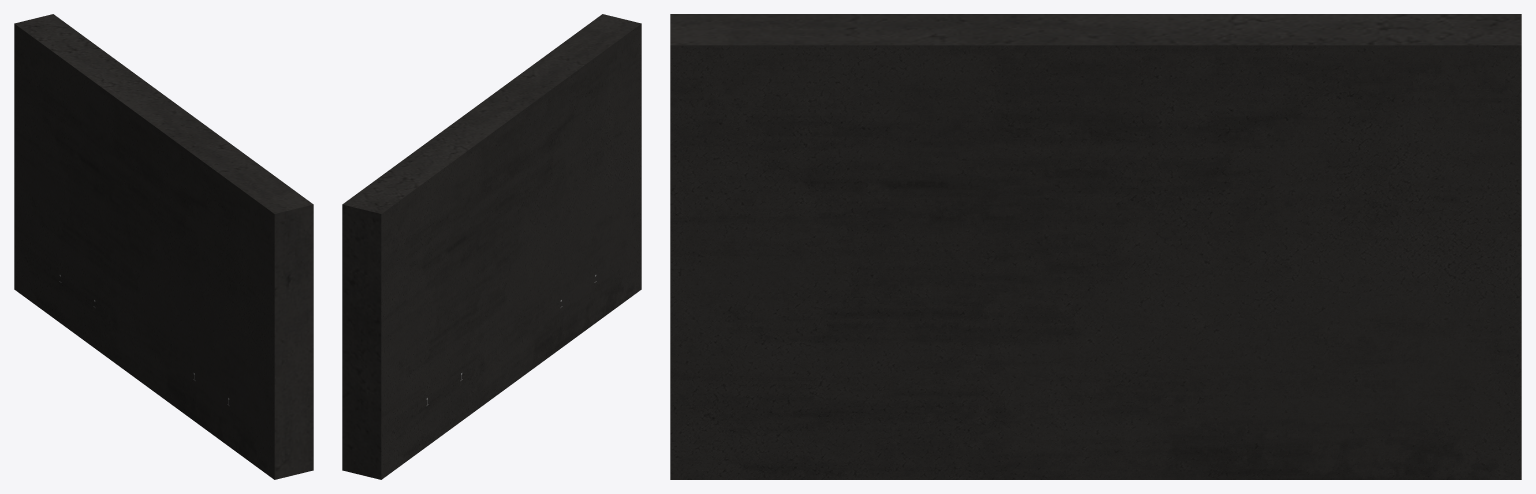
File: tunnel 2way delimeter.fbx
3 views of the same model, side by side, from view 1: azimuth 30°, elevation 25°; view 2: azimuth 150°, elevation 25°; view 3: azimuth 270°, elevation 25° (orthographic). The views are drawn at different scales.
Parts seen in each view (by area): view 1: tunnel delimeter_low, tunnel delimeter filler y_low, tunnel delimeter filler -y_low; view 2: tunnel delimeter_low, tunnel delimeter filler -y_low, tunnel delimeter filler y_low; view 3: tunnel delimeter_low, tunnel delimeter filler -y_low, tunnel delimeter filler y_low.
Part boxes in pixels (x1=…): tunnel delimeter_low: x1=14, y1=14, x2=313, y2=479; tunnel delimeter filler y_low: x1=16, y1=92, x2=138, y2=322; tunnel delimeter filler -y_low: x1=150, y1=190, x2=272, y2=421; tunnel delimeter_low: x1=342, y1=14, x2=641, y2=479; tunnel delimeter filler -y_low: x1=517, y1=92, x2=639, y2=322; tunnel delimeter filler y_low: x1=383, y1=190, x2=505, y2=421; tunnel delimeter_low: x1=670, y1=14, x2=1521, y2=479; tunnel delimeter filler -y_low: x1=677, y1=95, x2=1076, y2=412; tunnel delimeter filler y_low: x1=1115, y1=95, x2=1514, y2=412.
Size of the model in its own units: 1153 by 100 by 650.
